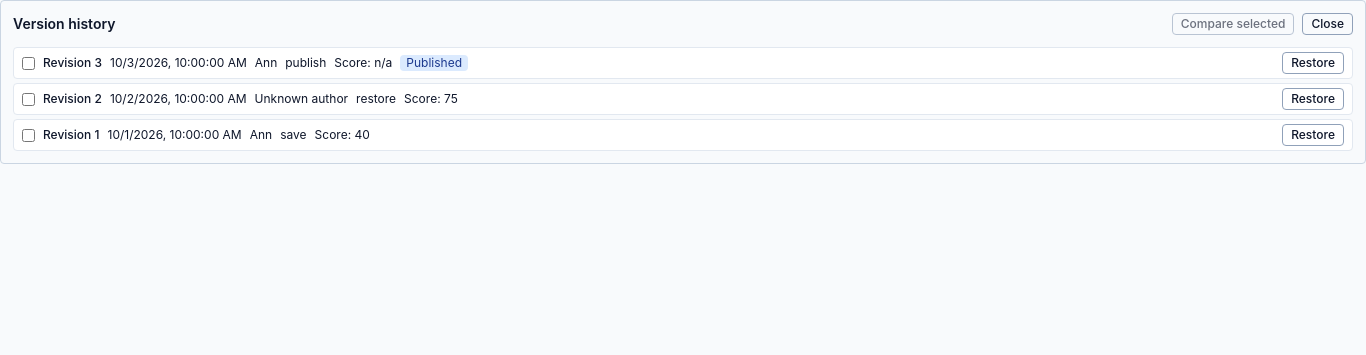
Test: HistoryDrawer › compares two revisions: changed sections expanded with +/- lines, unchanged collapsed
Click the checkbox named "Select revision 3" at (28, 63), box left=22, top=56, right=35, bottom=70
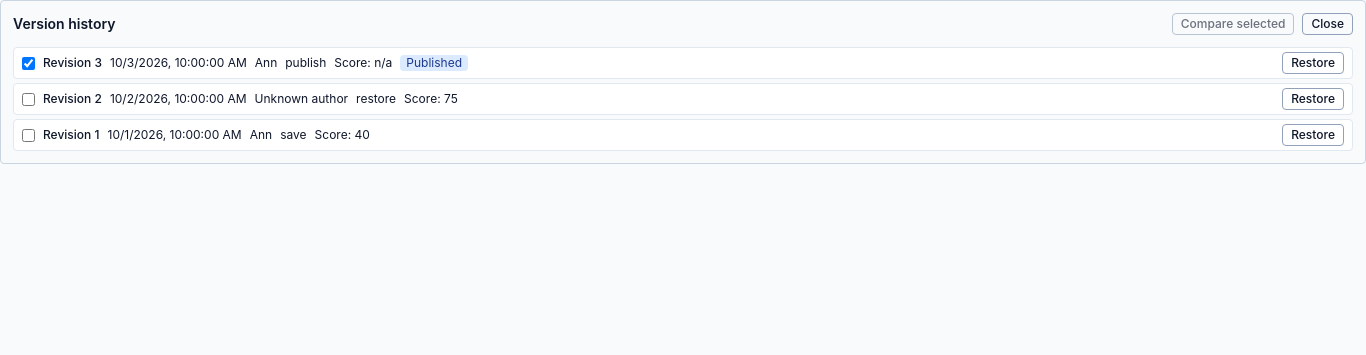
Click the checkbox named "Select revision 1" at (28, 135), box left=22, top=128, right=35, bottom=142
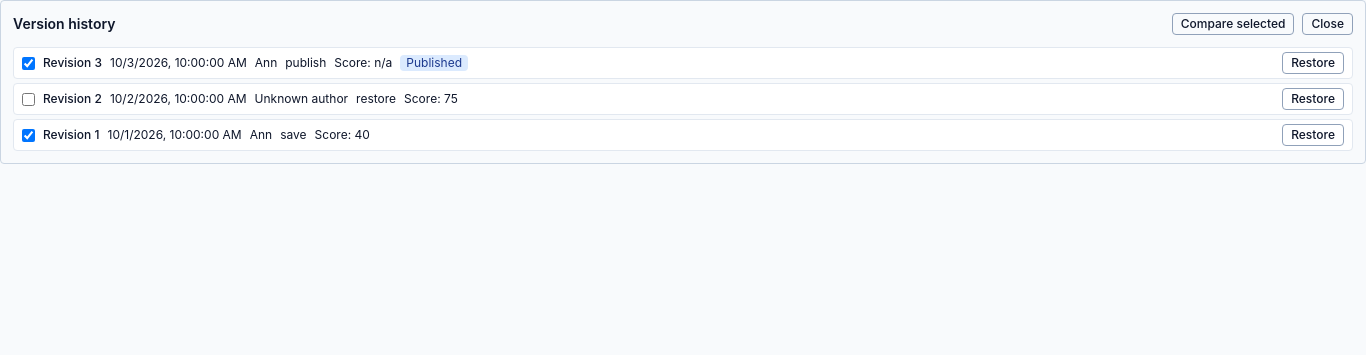
Click the button "Compare selected" at (1233, 24), box left=1172, top=13, right=1294, bottom=35
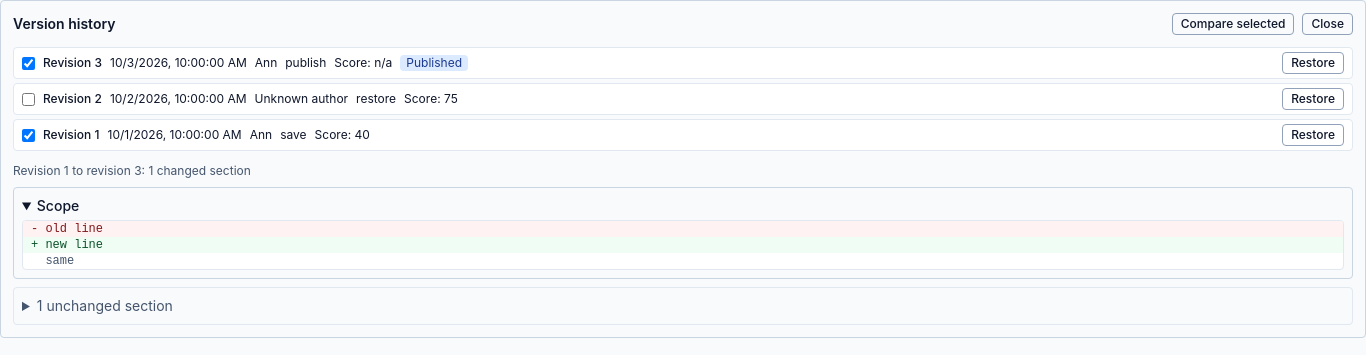
expect the element named "Changes from revision 1 to revision 3" shows "- old line": met, box left=31, top=222, right=103, bottom=236
expect the element named "Changes from revision 1 to revision 3" shows "+ new line": met, box left=31, top=238, right=103, bottom=252
expect the element showing "Scope - old line + new line same" is shown: met, box left=13, top=187, right=1353, bottom=279
